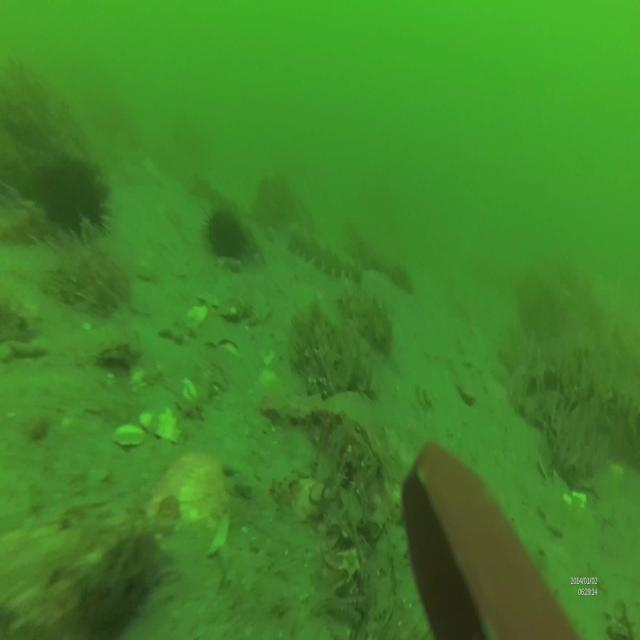echinus: (45, 156, 116, 237), (203, 204, 250, 261)
holothurian: (285, 228, 365, 283)
